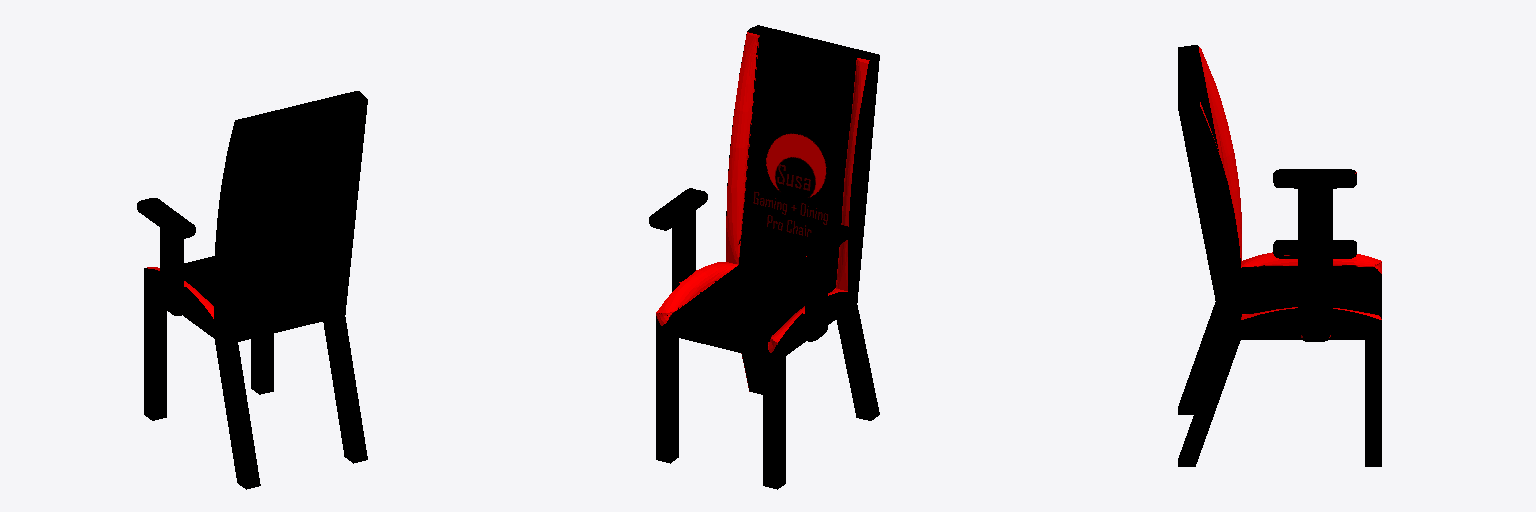
3 views of the same model, side by side, from view 1: azimuth 30°, elevation 25°; view 2: azimuth 150°, elevation 25°; view 3: azimuth 270°, elevation 25° (orthographic).
Visible parts, largest first — view 1: Body2; view 2: Body2; view 3: Body2.
Part boxes in pixels (left/top/right/bottom): Body2: left=137, top=91, right=367, bottom=489; Body2: left=649, top=25, right=879, bottom=489; Body2: left=1178, top=45, right=1381, bottom=466.
Bounding box in the file's own units: 1.31 × 2.75 × 1.4.
Materials: 1 (1 with a texture image).